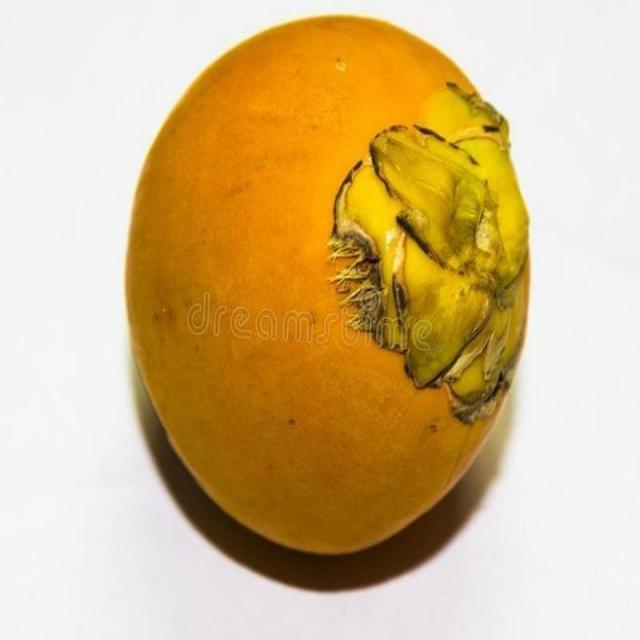good: (123, 14, 532, 561)
